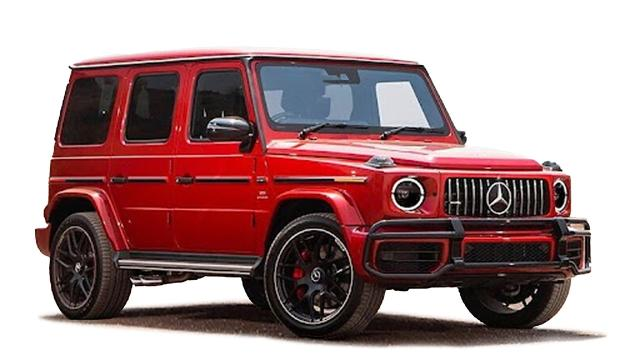benz: (34, 48, 592, 340)
